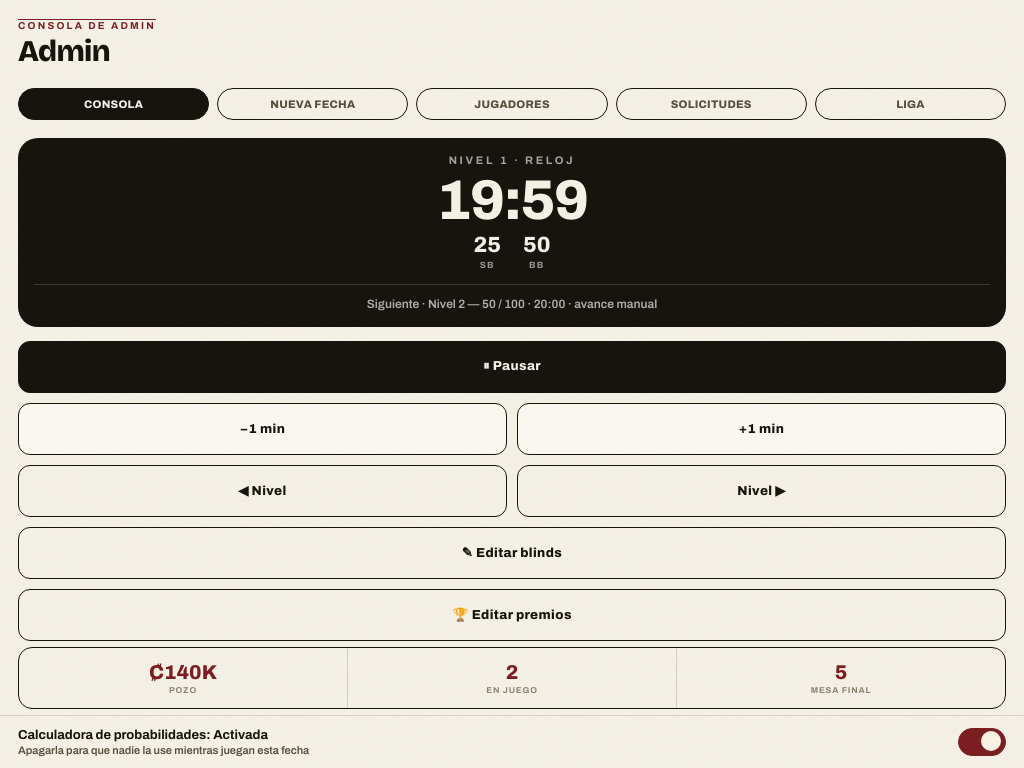
Test: Admin console — next-blind footer + blind structure table › tapping the clock opens the read-only blind structure table
The image size is (1024, 768).
Expected: the text "19:59" is shown, [437,170,587,231]
Step 1. Click the button with test id "admin-clock-tap" → (512, 212), box [437,154,587,270]
(page scrolled)
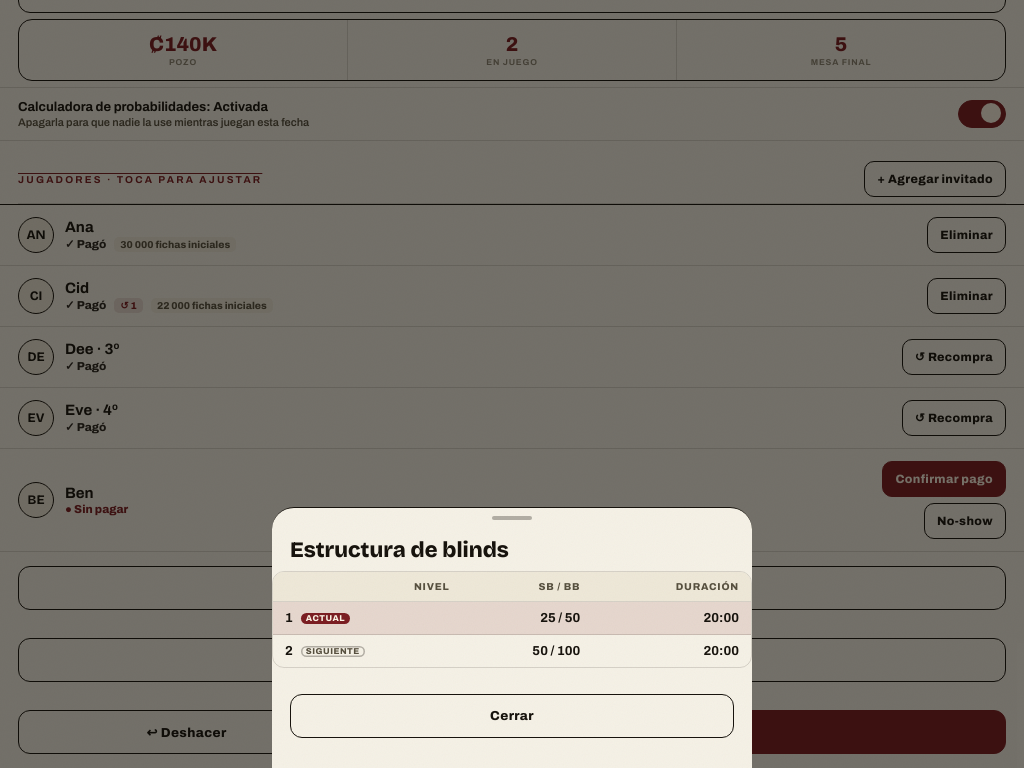
Expected: the text "50 / 100" is shown, [462,635,592,667]
Expected: the row with test id "blinds-row-current" is shown, [273,602,751,635]
